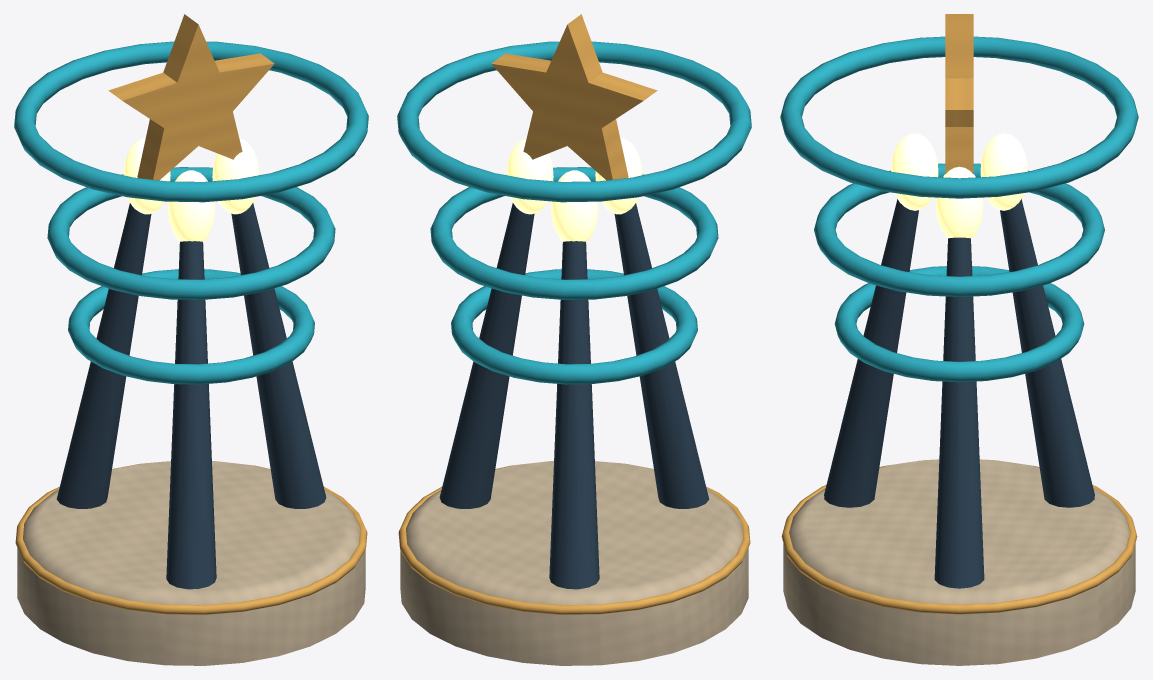
Rendered from holo_city.glb.
3 renders of one model, left to right at view 1: azimuth 30°, elevation 25°; view 2: azimuth 150°, elevation 25°; view 3: azimuth 270°, elevation 25°, orthographic.
Parts seen in each view (by area): view 1: holo_city_lod0; view 2: holo_city_lod0; view 3: holo_city_lod0.
Part boxes in pixels (box(x1,y1,x2,y2)): holo_city_lod0: box(14, 14, 368, 665); holo_city_lod0: box(397, 14, 751, 665); holo_city_lod0: box(780, 14, 1138, 665).
Size of what is drawn, in the model's own units: 6.92 by 12.3 by 6.92.
Materials: 5 (5 with a texture image).
